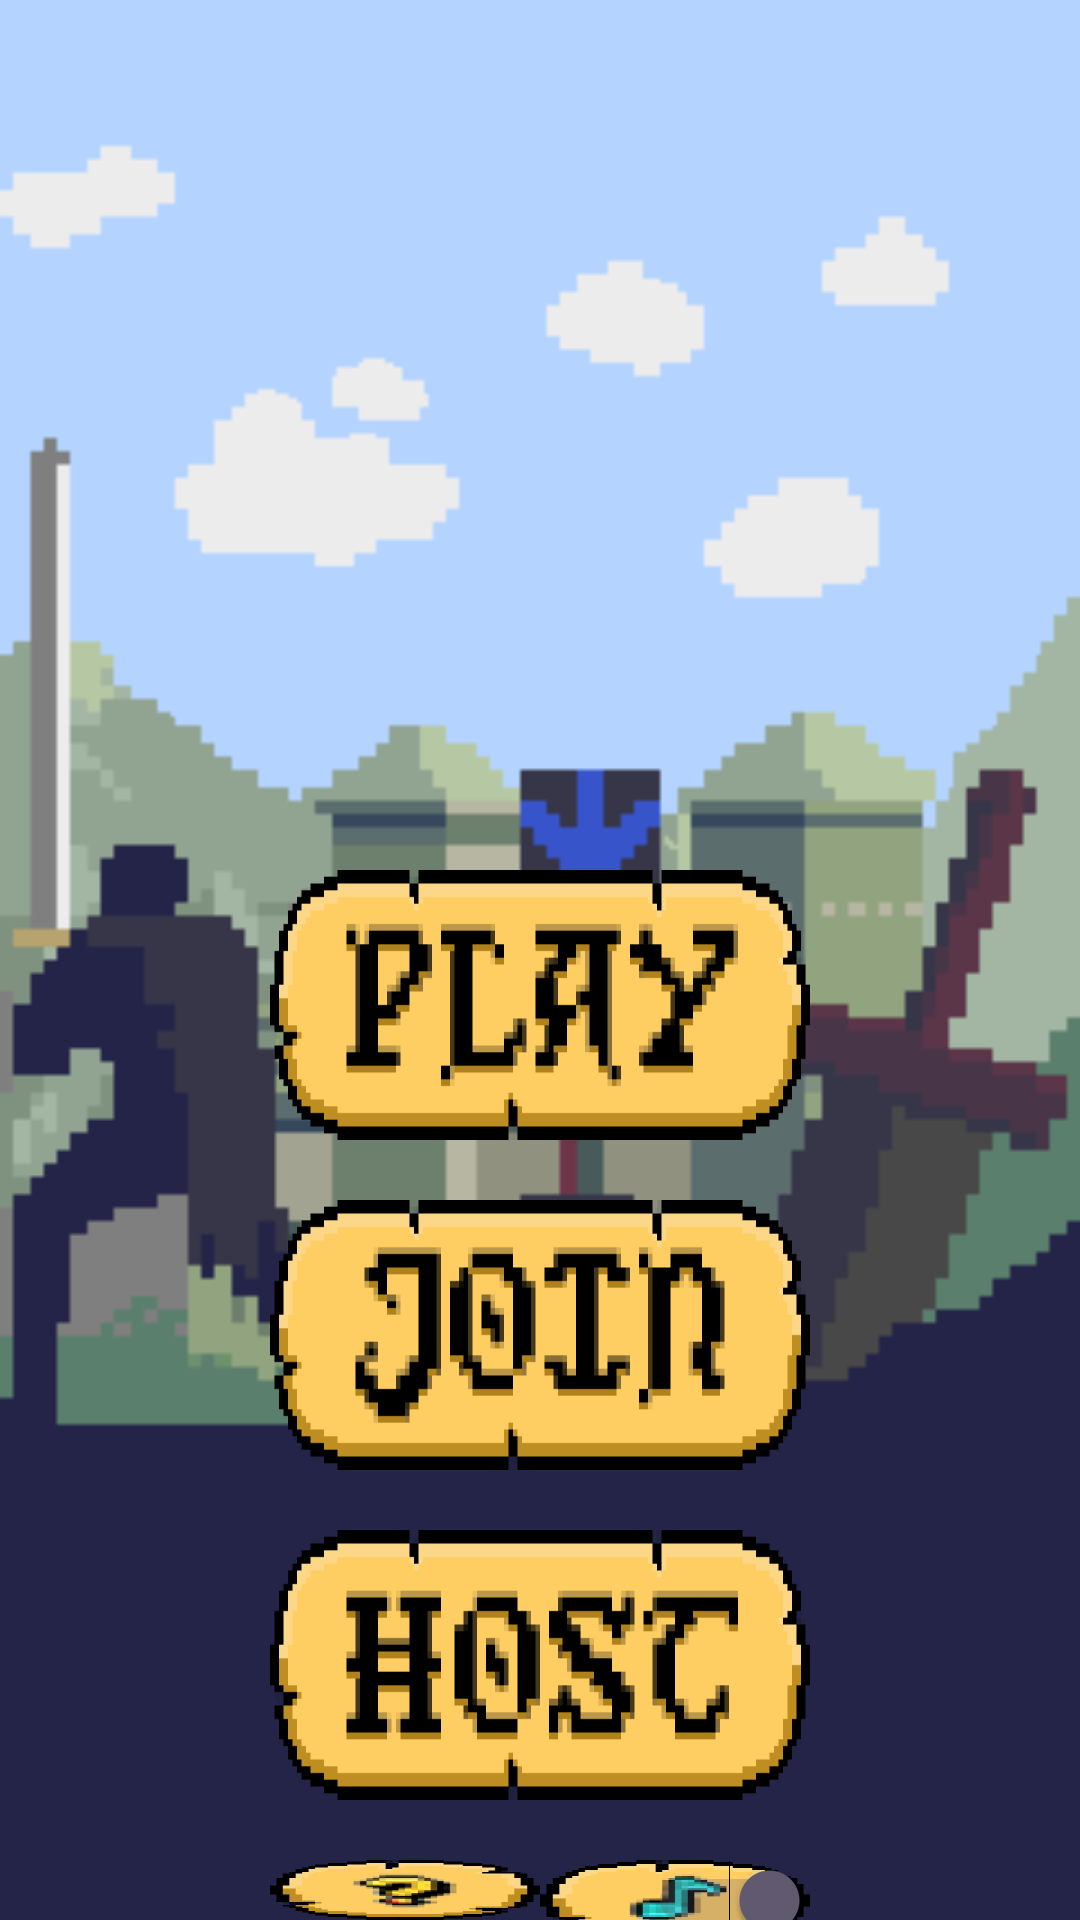

Where to tap for icons on this 1080w x 1920h app screen, as (x=x, y=y):
howtoplaybutton: (x=405, y=1890)
